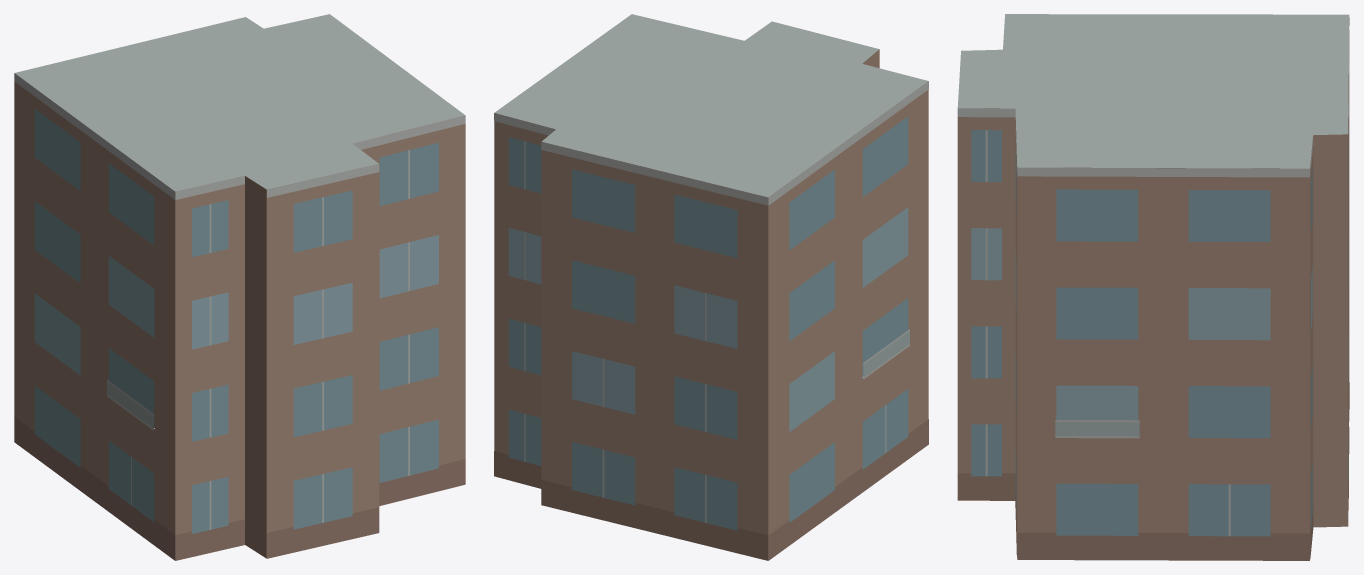
File: survey-upis-32822184.glb
3 views of the same model, side by side, from view 1: azimuth 30°, elevation 25°; view 2: azimuth 150°, elevation 25°; view 3: azimuth 270°, elevation 25° (orthographic). The views are drawn at different scales.
Parts seen in each view (by area): view 1: survey-upis-32822184.tmp; view 2: survey-upis-32822184.tmp; view 3: survey-upis-32822184.tmp.
Part boxes in pixels (x1,y1,x2,y2): survey-upis-32822184.tmp: (14,14,465,560); survey-upis-32822184.tmp: (494,14,928,560); survey-upis-32822184.tmp: (957,14,1349,560).
Bounding box in the file's own units: 9.14 × 10.77 × 9.75.
